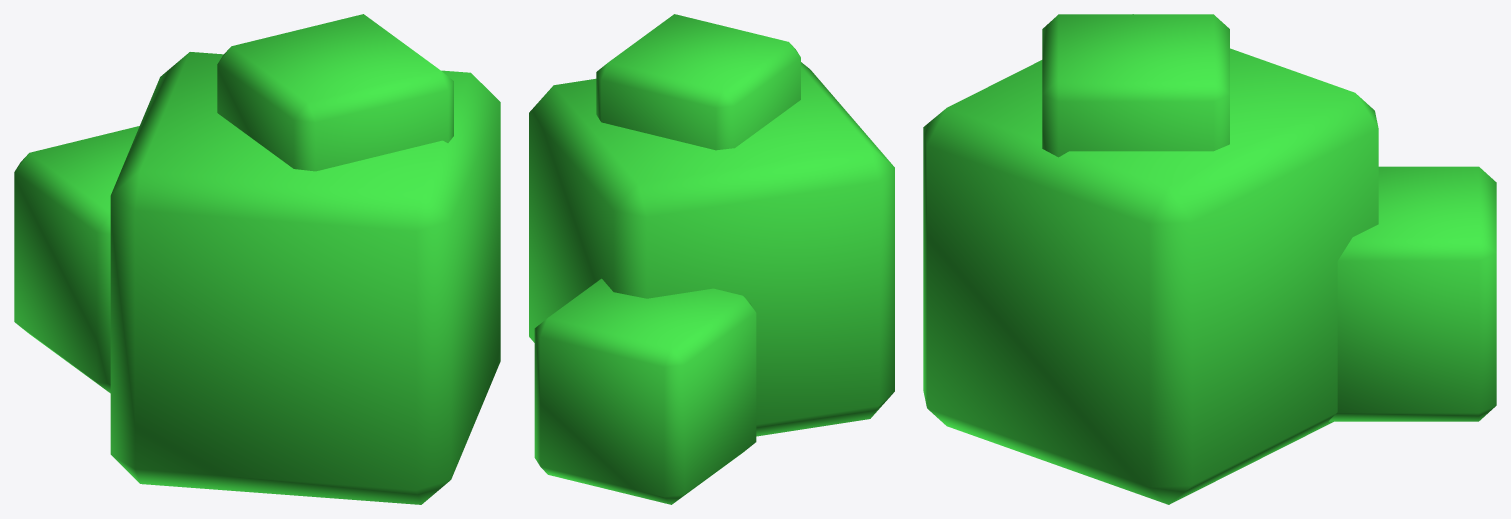
The model's file is brush_3_normal.fbx.
The picture shows the model from 3 angles, left to right: view 1: azimuth 30°, elevation 25°; view 2: azimuth 150°, elevation 25°; view 3: azimuth 270°, elevation 25°; orthographic projection. The views are drawn at different scales.
Visible parts, largest first — view 1: bushes; view 2: bushes; view 3: bushes.
Boxes of the visible parts, bbox=[...] form: bushes: bbox=[14, 14, 500, 504]; bushes: bbox=[529, 14, 894, 504]; bushes: bbox=[923, 14, 1496, 504].
Bounding box in the file's own units: 357 × 331 × 449.
